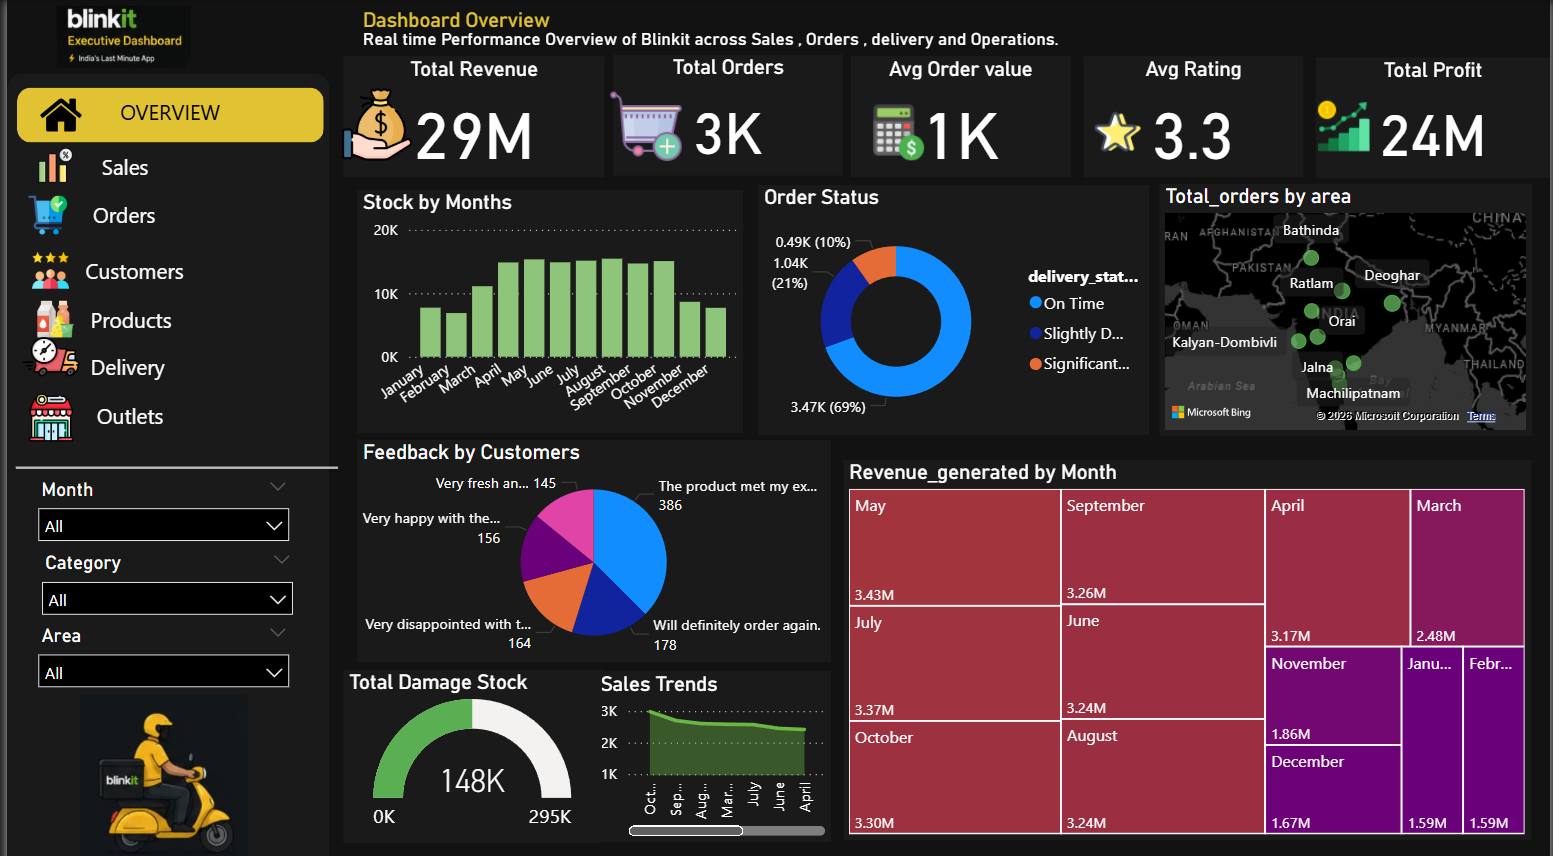

The page's visual inventory and layout, read from the dashboard file:
{"tool":"powerbi","page":{"name":"Overview","canvas":[1280,720],"ordinal":0},"visuals":[{"type":"shape","box":[0,61.4,267.1,658.6],"z":0},{"type":"shape","box":[8.6,72.9,254.3,45.7],"z":1000},{"type":"image","box":[22.9,72.9,44.3,45.7],"z":2000},{"type":"actionButton","box":[55.7,72.9,158.6,40],"z":3000},{"type":"image","box":[18.6,117.1,42.9,40],"z":4000},{"type":"actionButton","box":[74.3,118.6,65.7,40],"z":5000},{"type":"image","box":[11.4,157.1,44.3,41.4],"z":6000},{"type":"actionButton","box":[67.1,157.1,100,40],"z":7000},{"type":"actionButton","box":[61.4,204.3,117.1,40],"z":8000},{"type":"actionButton","box":[65.7,244.3,100,40],"z":9000},{"type":"actionButton","box":[65.7,284.3,100,40],"z":10000},{"type":"actionButton","box":[70,324.3,100,40],"z":11000},{"type":"image","box":[14.3,204.3,42.9,40],"z":12000},{"type":"image","box":[15.7,244.3,50,40],"z":13000},{"type":"image","box":[8.6,267.1,57.1,57.1],"z":14000},{"type":"image","box":[5.7,321.4,61.4,50],"z":15000},{"type":"shape","box":[7,133.7,267.4,508.1],"z":16000},{"type":"slicer","fields":{"Values":["blinkit_customers.registration_date.Variation.Date Hierarchy.Month"]},"box":[15.7,391.4,228.6,71.4],"z":17000},{"type":"slicer","fields":{"Values":["blinkit_products.category"]},"box":[18.6,452.9,228.6,71.4],"z":18000},{"type":"slicer","fields":{"Values":["blinkit_customers.area"]},"box":[15.7,512.9,228.6,71.4],"z":19000},{"type":"image","box":[30,571.4,200,148.6],"z":20000},{"type":"card","title":"Total Revenue","fields":{"Values":["blinkit_customer_feedback.Total Revenue"]},"box":[278.6,47.1,217.1,100],"z":21000},{"type":"card","title":"Total Orders","fields":{"Values":["blinkit_customer_feedback.Total Orders"]},"box":[502.1,45.7,190.7,100],"z":22000},{"type":"card","title":"Avg Order value","fields":{"Values":["blinkit_customer_feedback.Average Order Value"]},"box":[700,46.9,182.5,100],"z":23000},{"type":"card","title":"Avg Rating","fields":{"Values":["blinkit_marketing_performance.Average Rating"]},"box":[891.8,46.4,182.7,100],"z":24000},{"type":"card","title":"Total Profit","fields":{"Values":["blinkit_customer_feedback.Total Profit"]},"box":[1085.5,47.3,194.5,100],"z":25000},{"type":"image","box":[262.9,68.6,87.1,70],"z":26000},{"type":"image","box":[495.5,61.8,69.1,83.6],"z":27000},{"type":"image","box":[1074.5,73.6,67.3,60.9],"z":28000},{"type":"image","box":[891.2,63.8,55,88.8],"z":29000},{"type":"image","box":[700,78.2,70.9,60],"z":30000},{"type":"areaChart","title":"Sales Trends","fields":{"Category":["blinkit_customers.Month Name"],"Y":["Sum(blinkit_customers.total_orders)"]},"box":[486.6,556.1,196.3,141.5],"z":31000},{"type":"donutChart","title":"Order Status","fields":{"Category":["blinkit_orders.delivery_status"],"Y":["CountNonNull(blinkit_orders.delivery_status)"]},"box":[622.5,153.8,323.8,207.5],"z":32000},{"type":"treemap","title":" Revenue_generated by Month","fields":{"Values":["Sum(blinkit_marketing_performance.revenue_generated)"],"Group":["blinkit_marketing_performance.date.Variation.Date Hierarchy.Month"]},"box":[693.8,381.2,570,315],"z":33000},{"type":"gauge","title":"Total Damage Stock","fields":{"Y":["blinkit_customer_feedback.Total Stock"]},"box":[278.6,555.7,214.3,142.9],"z":34000},{"type":"pieChart","title":"Feedback by Customers","fields":{"Category":["blinkit_customer_feedback.feedback_text"],"Y":["CountNonNull(blinkit_customer_feedback.feedback_text)"]},"box":[290,364.3,392.9,184.3],"z":35000},{"type":"map","title":"Total_orders by area","fields":{"Category":["blinkit_customers.area"],"Size":["Sum(blinkit_customers.total_orders)"]},"box":[955,152.5,308.8,208.8],"z":36000},{"type":"lineClusteredColumnComboChart","title":"Stock by Months","fields":{"Category":["blinkit_inventory.date.Variation.Date Hierarchy.Month","blinkit_inventory.date.Variation.Date Hierarchy.Day"],"Y":["Sum(blinkit_inventory.stock_received)"]},"box":[290,157.1,320,201.4],"z":37000},{"type":"image","box":[8.2,0,177.3,61.8],"z":38000},{"type":"textbox","title":"Dashboard Overview","box":[290,6.5,502.4,35.3],"z":39000},{"type":"textbox","title":"Real time Performance Overview of Blinkit across Sales , Orders , delivery and Operations.","box":[290,24.1,593.5,17.6],"z":40000}]}

Visuals, with their boxes on the page's 1280x720 design canvas (x1, y1, x2, y2). These are canvas units, not pixel positions in the 1553x856 screenshot, which may show the page scaled, cropped or inside an application window:
shape: pyautogui.locateOnScreen(0, 61, 267, 720)
shape: pyautogui.locateOnScreen(9, 73, 263, 119)
image: pyautogui.locateOnScreen(23, 73, 67, 119)
actionButton: pyautogui.locateOnScreen(56, 73, 214, 113)
image: pyautogui.locateOnScreen(19, 117, 62, 157)
actionButton: pyautogui.locateOnScreen(74, 119, 140, 159)
image: pyautogui.locateOnScreen(11, 157, 56, 198)
actionButton: pyautogui.locateOnScreen(67, 157, 167, 197)
actionButton: pyautogui.locateOnScreen(61, 204, 178, 244)
actionButton: pyautogui.locateOnScreen(66, 244, 166, 284)
actionButton: pyautogui.locateOnScreen(66, 284, 166, 324)
actionButton: pyautogui.locateOnScreen(70, 324, 170, 364)
image: pyautogui.locateOnScreen(14, 204, 57, 244)
image: pyautogui.locateOnScreen(16, 244, 66, 284)
image: pyautogui.locateOnScreen(9, 267, 66, 324)
image: pyautogui.locateOnScreen(6, 321, 67, 371)
shape: pyautogui.locateOnScreen(7, 134, 274, 642)
slicer - blinkit_customers.registration_date.Variation.Date Hierarchy.Month: pyautogui.locateOnScreen(16, 391, 244, 463)
slicer - blinkit_products.category: pyautogui.locateOnScreen(19, 453, 247, 524)
slicer - blinkit_customers.area: pyautogui.locateOnScreen(16, 513, 244, 584)
image: pyautogui.locateOnScreen(30, 571, 230, 720)
"Total Revenue" card: pyautogui.locateOnScreen(279, 47, 496, 147)
"Total Orders" card: pyautogui.locateOnScreen(502, 46, 693, 146)
"Avg Order value" card: pyautogui.locateOnScreen(700, 47, 882, 147)
"Avg Rating" card: pyautogui.locateOnScreen(892, 46, 1074, 146)
"Total Profit" card: pyautogui.locateOnScreen(1086, 47, 1280, 147)
image: pyautogui.locateOnScreen(263, 69, 350, 139)
image: pyautogui.locateOnScreen(496, 62, 565, 145)
image: pyautogui.locateOnScreen(1074, 74, 1142, 134)
image: pyautogui.locateOnScreen(891, 64, 946, 153)
image: pyautogui.locateOnScreen(700, 78, 771, 138)
"Sales Trends" areaChart: pyautogui.locateOnScreen(487, 556, 683, 698)
"Order Status" donutChart: pyautogui.locateOnScreen(622, 154, 946, 361)
" Revenue_generated by Month" treemap: pyautogui.locateOnScreen(694, 381, 1264, 696)
"Total Damage Stock" gauge: pyautogui.locateOnScreen(279, 556, 493, 699)
"Feedback by Customers" pieChart: pyautogui.locateOnScreen(290, 364, 683, 549)
"Total_orders by area" map: pyautogui.locateOnScreen(955, 152, 1264, 361)
"Stock by Months" lineClusteredColumnComboChart: pyautogui.locateOnScreen(290, 157, 610, 358)
image: pyautogui.locateOnScreen(8, 0, 186, 62)
"Dashboard Overview" textbox: pyautogui.locateOnScreen(290, 6, 792, 42)
"Real time Performance Overview of Blinkit across Sales , Orders , delivery and Operations." textbox: pyautogui.locateOnScreen(290, 24, 884, 42)
